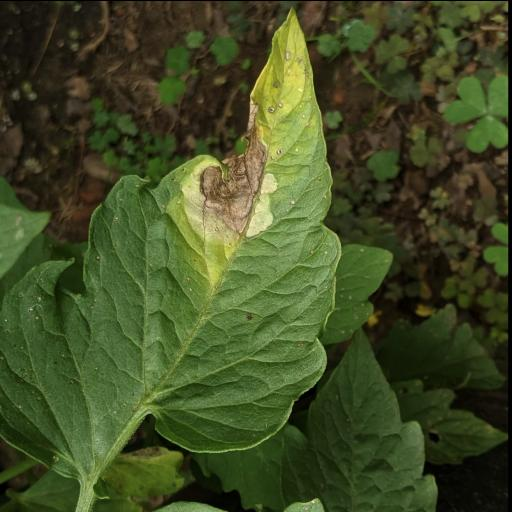disease_tomato: (0, 3, 342, 475)
